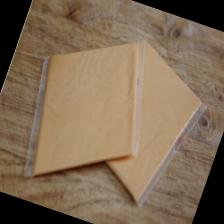cheese: (6, 9, 173, 209), (78, 33, 222, 219)
